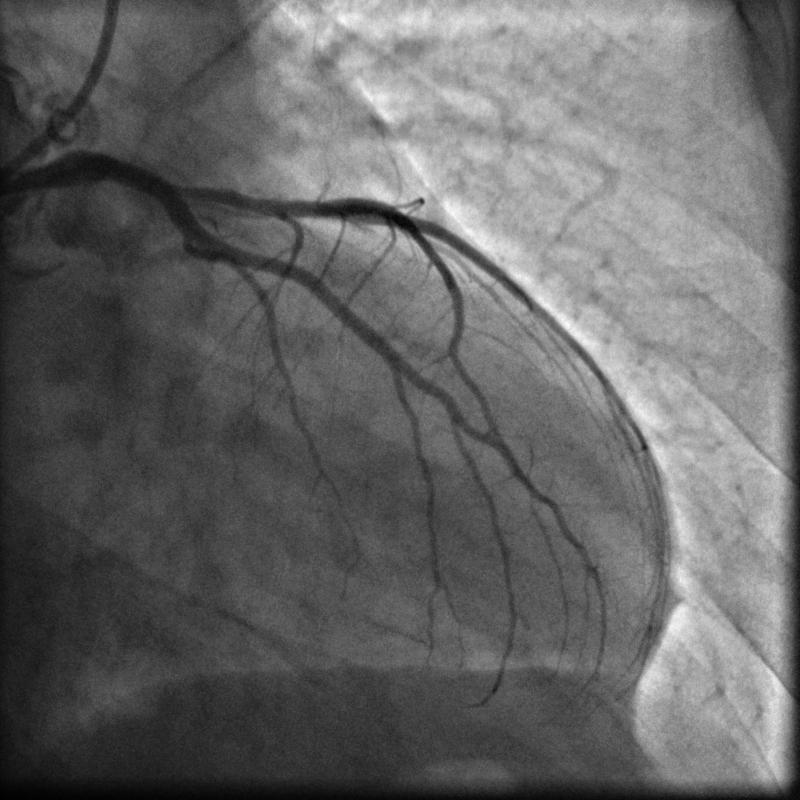Stenosis: (166, 178, 214, 205)
